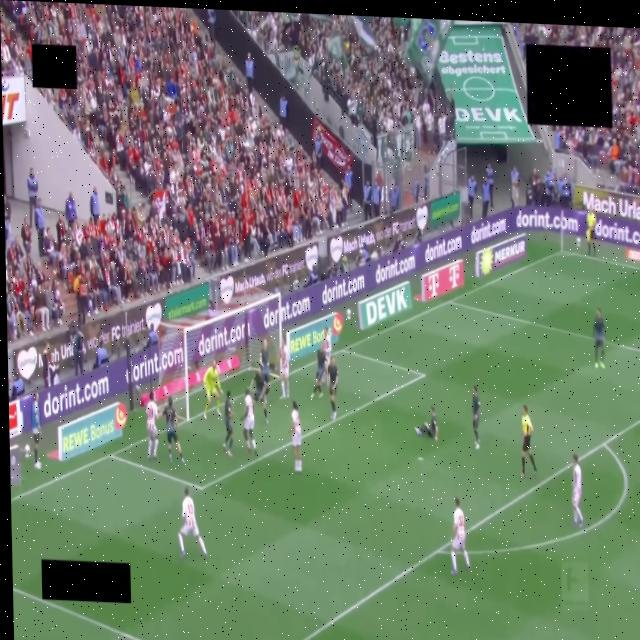player: (179, 488, 206, 557), (163, 396, 184, 463), (451, 497, 469, 575), (204, 359, 221, 419), (242, 389, 257, 455), (252, 365, 268, 424), (311, 341, 326, 398), (146, 391, 158, 460), (572, 454, 583, 527), (415, 406, 437, 442), (291, 401, 302, 472), (593, 306, 605, 369), (328, 356, 338, 420), (224, 391, 233, 457), (260, 339, 270, 394), (280, 338, 289, 398), (472, 386, 480, 449), (324, 326, 332, 365)
referee: (521, 406, 536, 478)
